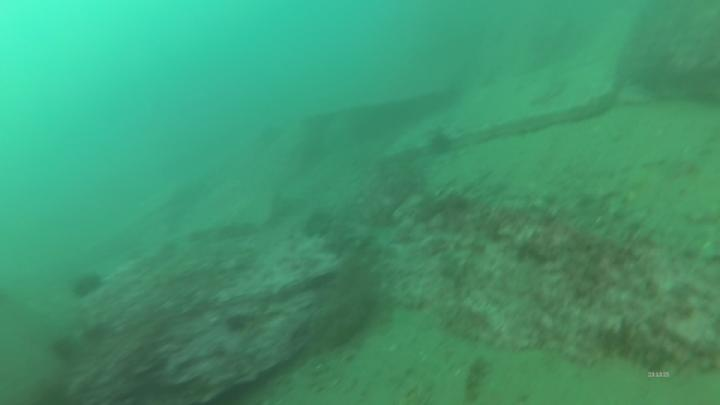echinus: (70, 271, 103, 304), (426, 128, 456, 162)
holothurian: (462, 355, 488, 405)
